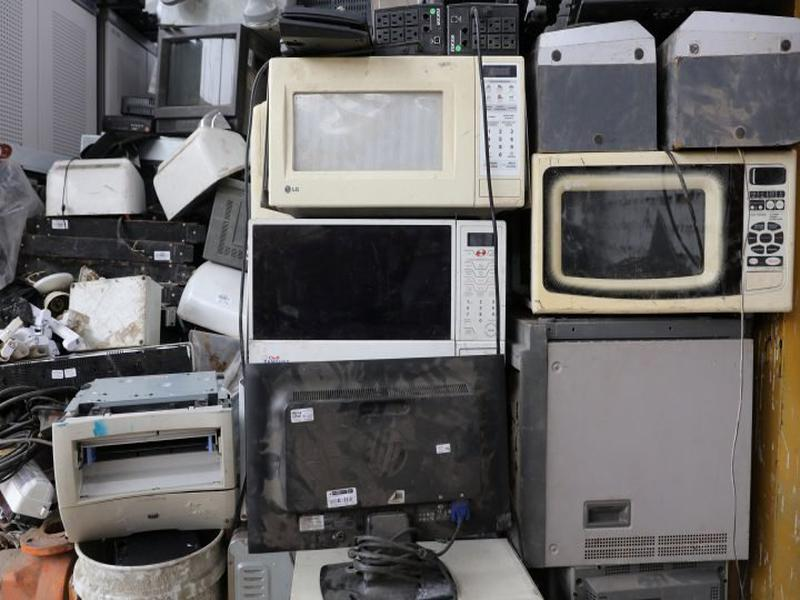printer: (53, 391, 242, 545), (39, 159, 151, 216)
tv_pc: (240, 353, 519, 598), (150, 26, 261, 131)
